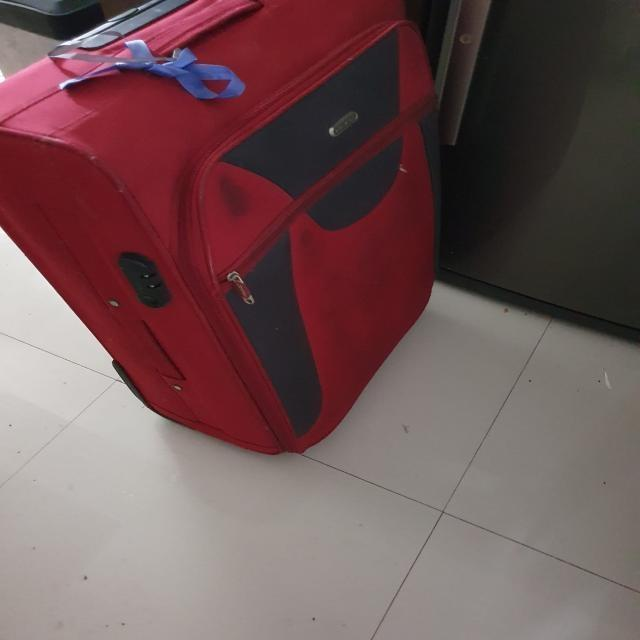Suitcase: (0, 0, 443, 458)
